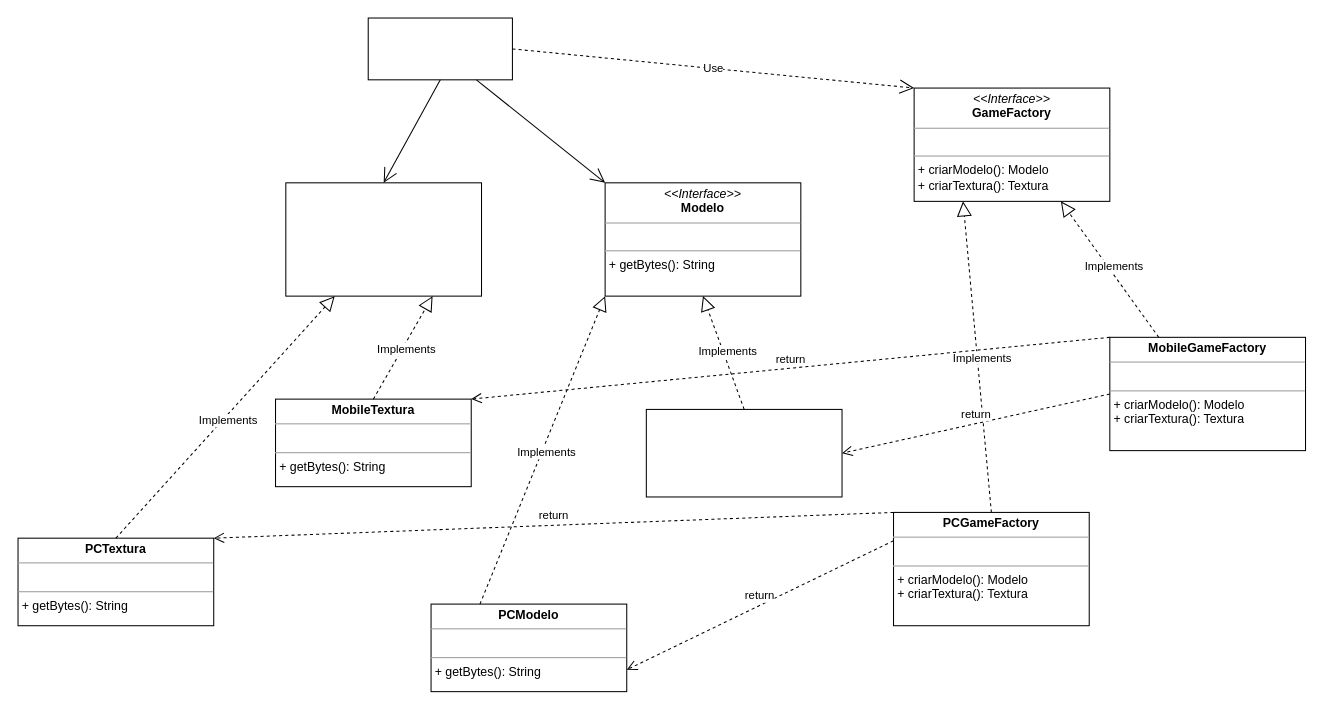
The diagram is 1324 pixels wide and 710 high, and some of its shapes have lost their labels. The centre of each missing label's shape, as x and y in pixels:
"<<Interface>> Textura + getBytes(): String" goes at point 383,239.
"Game" goes at point 439,48.
"MobileModelo + getBytes(): String" goes at point 743,452.
